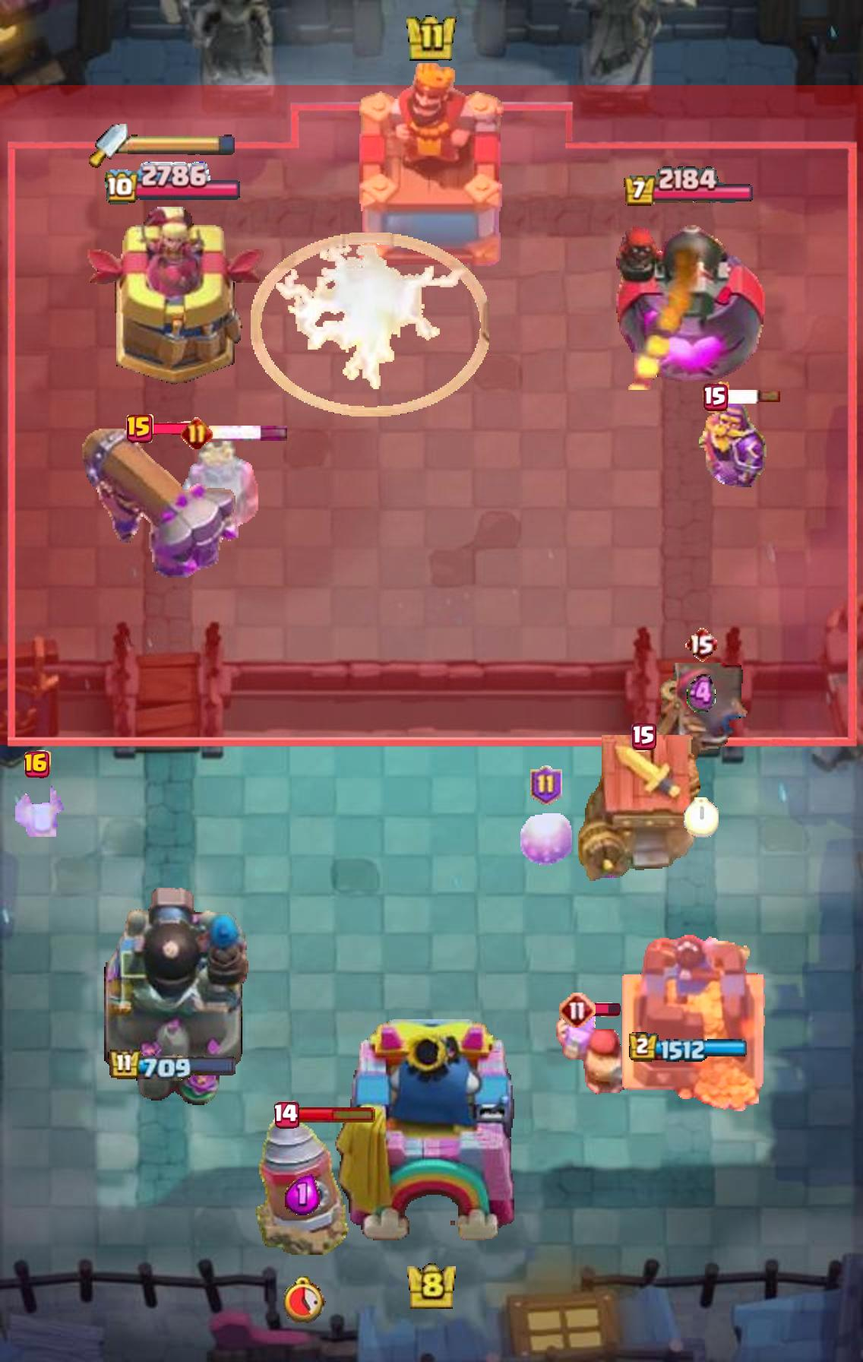elixir: (285, 1174, 320, 1215), (687, 673, 716, 716)
